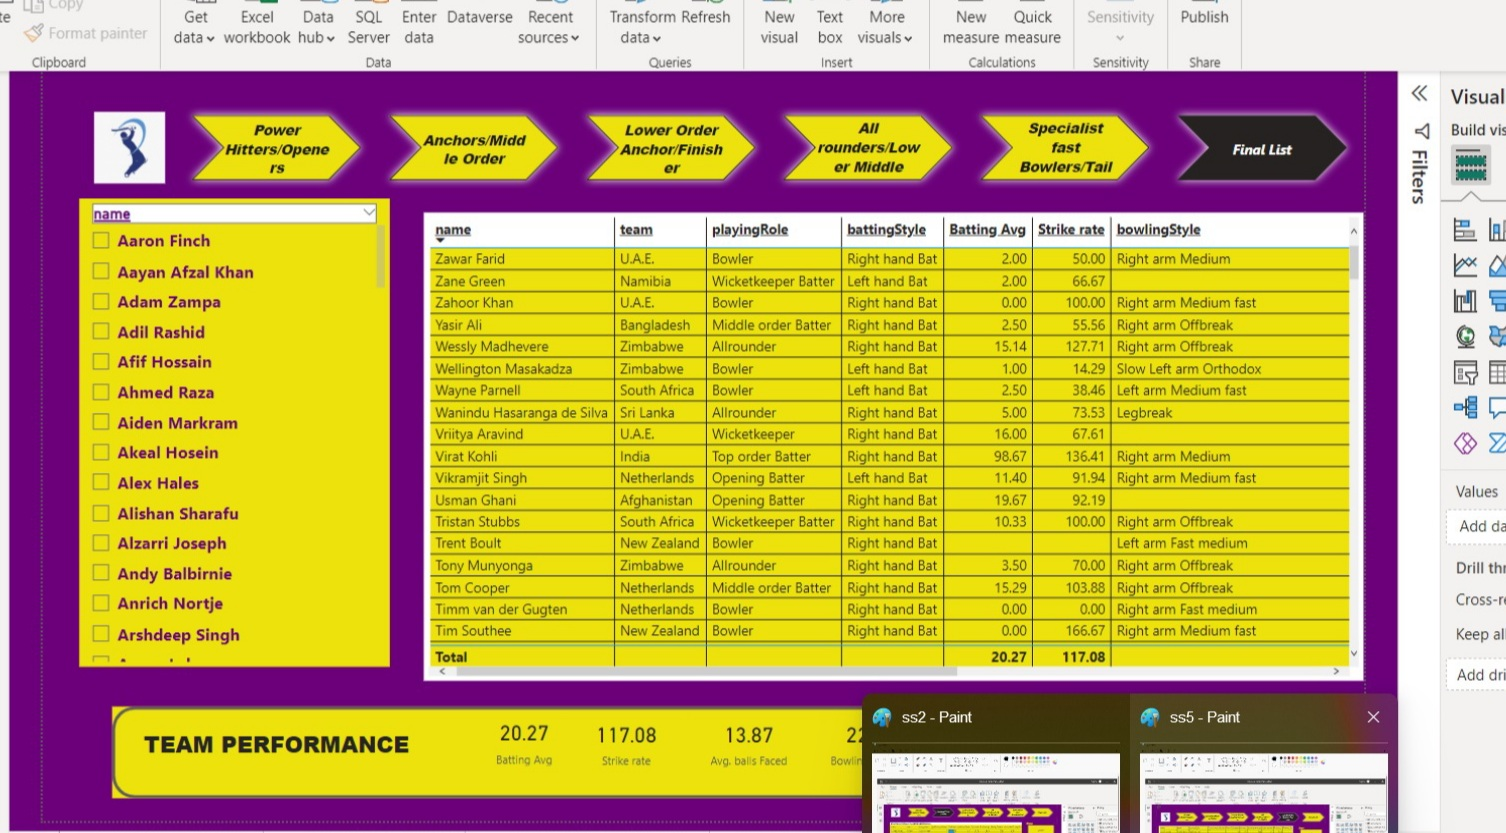

What the dashboard file says about the page in this screenshot:
{"tool":"powerbi","page":{"name":"Final List","canvas":[1280,720],"ordinal":5},"visuals":[{"type":"tableEx","fields":{"Values":["dim_players.name","dim_players.team","dim_players.playingRole","dim_players.battingStyle","key_measures.Batting Avg","key_measures.Strike rate","dim_players.bowlingStyle","key_measures.Economy","key_measures.Strike rate","dim_players.bowlingStyle","key_measures.Bowling Strike Rate","key_measures.Bowling Average"]},"box":[369.2,135.7,910.7,449.8],"z":0},{"type":"slicer","fields":{"Values":["dim_players.name"]},"box":[35.7,122.4,301.1,449.6],"z":1000},{"type":"pageNavigator","box":[135.7,34.2,1136.8,78.2],"z":2000},{"type":"image","box":[33,34.2,102.7,78.2],"z":3000},{"type":"bookmarkNavigator","box":[369.8,625.6,848.3,50.9],"z":4000},{"type":"actionButton","box":[67.6,609.6,1204.3,87.9],"z":5000},{"type":"textbox","box":[93.3,625.8,304.1,41.9],"z":6000},{"type":"card","fields":{"Values":["key_measures.Batting Avg"]},"box":[406.8,613.6,118.9,58.1],"z":7000},{"type":"card","fields":{"Values":["key_measures.Strike rate"]},"box":[505.5,615,118.9,58.1],"z":8000},{"type":"card","fields":{"Values":["key_measures.Avg. balls Faced"]},"box":[624.5,615,118.9,58.1],"z":9000},{"type":"card","fields":{"Values":["key_measures.Bowling Average"]},"box":[743.4,615,118.9,58.1],"z":10000},{"type":"card","fields":{"Values":["key_measures.Bowling Strike Rate"]},"box":[847.5,617.7,118.9,58.1],"z":11000},{"type":"card","fields":{"Values":["key_measures.Economy"]},"box":[966.4,613.6,118.9,58.1],"z":12000},{"type":"card","fields":{"Values":["key_measures.Dot ball %"]},"box":[1085.4,615,118.9,58.1],"z":13000}]}

Visuals, with their boxes on the page's 1280x720 design canvas (x1, y1, x2, y2). These are canvas units, not pixel positions in the 1506x833 screenshot, which may show the page scaled, cropped or inside an application window:
tableEx - dim_players.name x dim_players.team: pyautogui.locateOnScreen(369, 136, 1280, 586)
slicer - dim_players.name: pyautogui.locateOnScreen(36, 122, 337, 572)
pageNavigator: pyautogui.locateOnScreen(136, 34, 1272, 112)
image: pyautogui.locateOnScreen(33, 34, 136, 112)
bookmarkNavigator: pyautogui.locateOnScreen(370, 626, 1218, 676)
actionButton: pyautogui.locateOnScreen(68, 610, 1272, 698)
textbox: pyautogui.locateOnScreen(93, 626, 397, 668)
card - key_measures.Batting Avg: pyautogui.locateOnScreen(407, 614, 526, 672)
card - key_measures.Strike rate: pyautogui.locateOnScreen(506, 615, 624, 673)
card - key_measures.Avg. balls Faced: pyautogui.locateOnScreen(624, 615, 743, 673)
card - key_measures.Bowling Average: pyautogui.locateOnScreen(743, 615, 862, 673)
card - key_measures.Bowling Strike Rate: pyautogui.locateOnScreen(848, 618, 966, 676)
card - key_measures.Economy: pyautogui.locateOnScreen(966, 614, 1085, 672)
card - key_measures.Dot ball %: pyautogui.locateOnScreen(1085, 615, 1204, 673)
